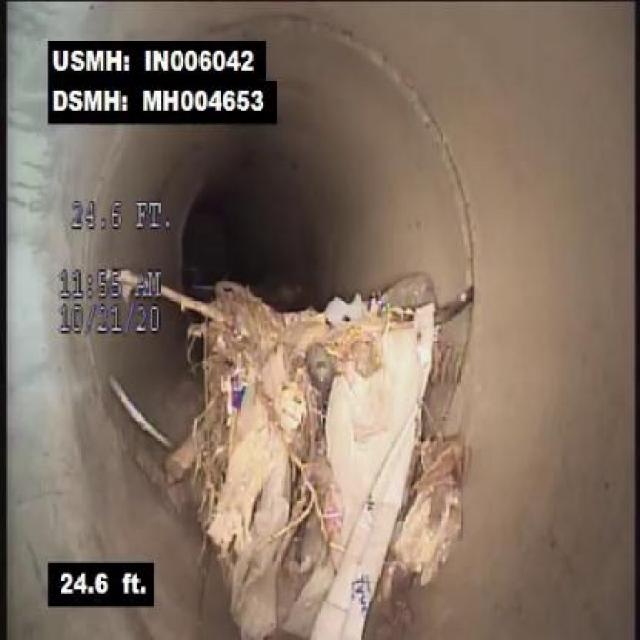Obstacle: (99, 245, 502, 563)
